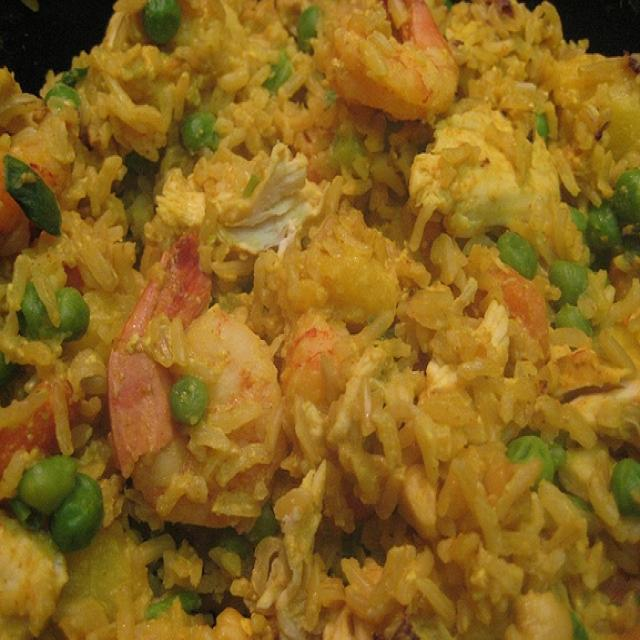炸货点心: (5, 13, 629, 626)
熟制海鲜: (5, 13, 629, 626)
